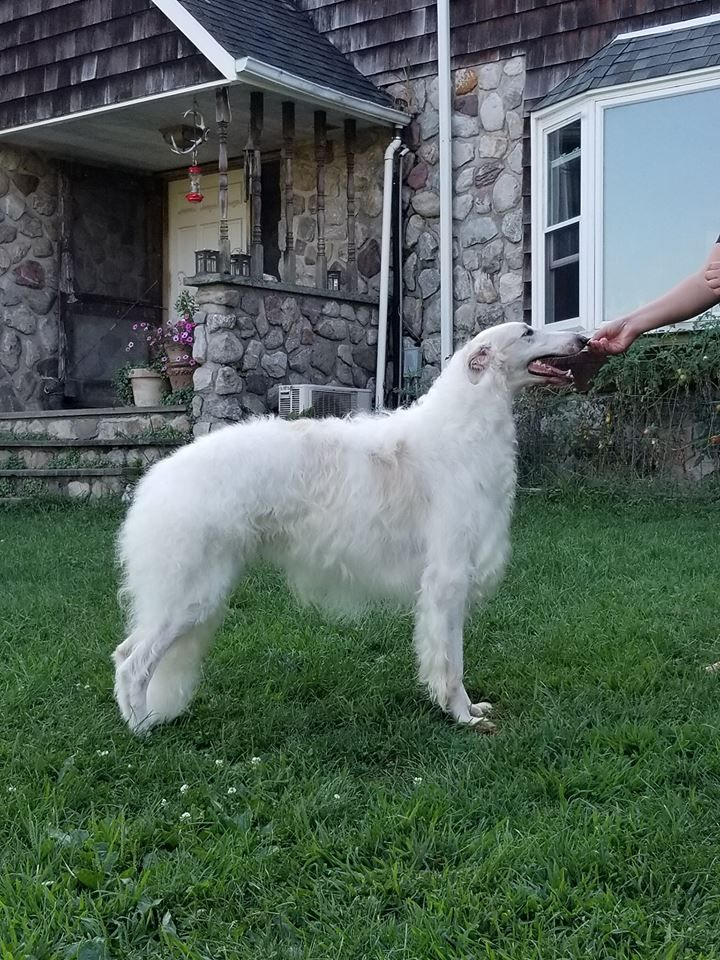borzoi: (110, 307, 587, 741)
